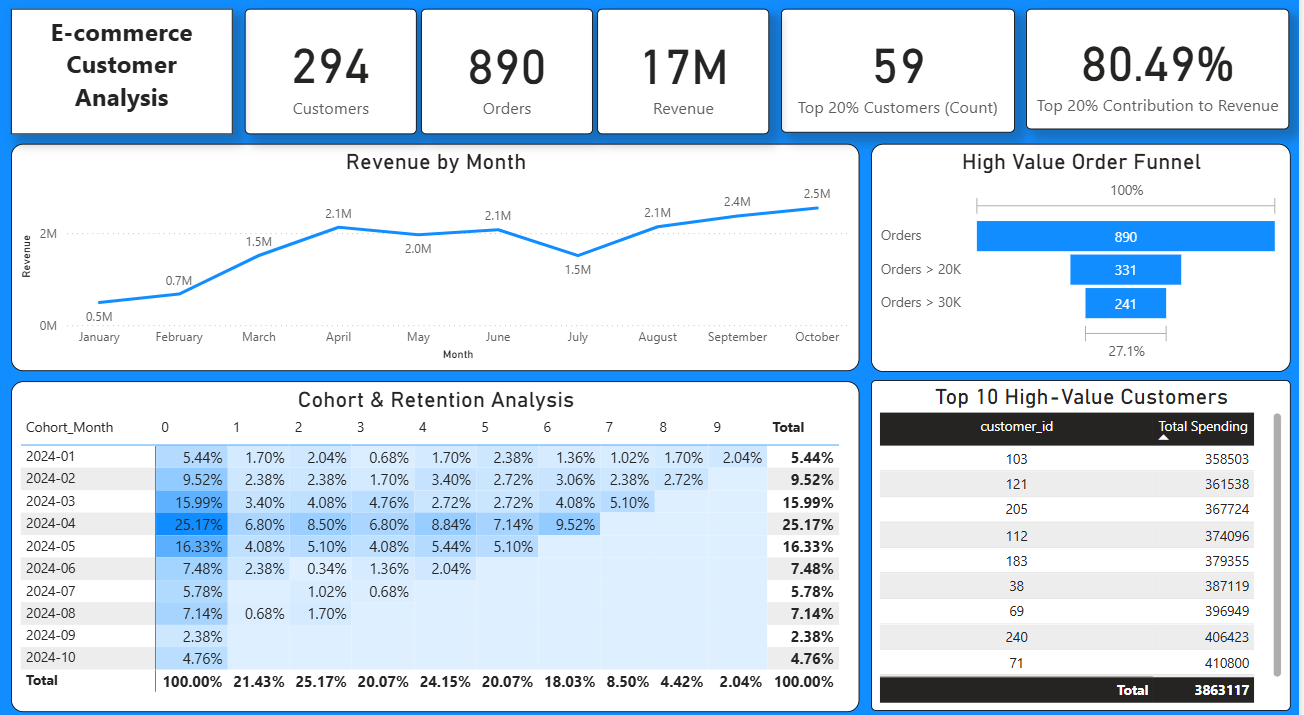

This screenshot's page, from the dashboard's own definition file:
{"tool":"powerbi","page":{"name":"Page 1","canvas":[1280,720],"ordinal":0},"visuals":[{"type":"lineChart","fields":{"Category":["orders_df.order_date.Variation.Date Hierarchy.Month"],"Y":["orders_df.Revenue"]},"box":[14.7,150.9,833.1,223.3],"z":0},{"type":"card","fields":{"Values":["Customer_Summary.High Value cust"]},"box":[770.6,18.4,229.4,121.5],"z":1000},{"type":"tableEx","title":"Top 10 High-Value Customers","fields":{"Values":["Customer_Summary.customer_id","Sum(Customer_Summary.total_spent)"]},"box":[858.3,383.1,411.8,324.7],"z":2000},{"type":"pivotTable","title":"Cohort & Retention Analysis","fields":{"Rows":["orders_df.Cohort_Month"],"Columns":["orders_df.Month_Number"],"Values":["orders_df.Retention %"]},"box":[14.7,384.1,833.1,325.2],"z":3000},{"type":"funnel","title":"High Value Order Funnel","fields":{"Y":["orders_df.Total_orders","orders_df.Orders > 20K","orders_df.Orders > 30K"]},"box":[858.9,150.9,411,225.8],"z":4000},{"type":"card","fields":{"Values":["orders_df.Customers"]},"box":[243.8,18.7,169,123],"z":5000},{"type":"card","fields":{"Values":["orders_df.Total_orders"]},"box":[417.3,18.7,169,123.2],"z":6000},{"type":"card","fields":{"Values":["orders_df.Revenue"]},"box":[590.7,18.7,169.2,123.2],"z":7000},{"type":"card","fields":{"Values":["Customer_Summary.Top 20% Contribution to Revenue"]},"box":[1011.3,18.7,258.7,118.2],"z":8000},{"type":"textbox","box":[14.9,18.7,217.7,123.2],"z":9000}]}

Visuals, with their boxes in screenshot pixels (x1, y1, x2, y2), scaled from the page's 1280x720 canvas onto the 1304x715 screenshot:
lineChart - orders_df.order_date.Variation.Date Hierarchy.Month x orders_df.Revenue: box(15, 150, 864, 372)
card - Customer_Summary.High Value cust: box(785, 18, 1019, 139)
"Top 10 High-Value Customers" tableEx: box(874, 380, 1294, 703)
"Cohort & Retention Analysis" pivotTable: box(15, 381, 864, 704)
"High Value Order Funnel" funnel: box(875, 150, 1294, 374)
card - orders_df.Customers: box(248, 19, 421, 141)
card - orders_df.Total_orders: box(425, 19, 597, 141)
card - orders_df.Revenue: box(602, 19, 774, 141)
card - Customer_Summary.Top 20% Contribution to Revenue: box(1030, 19, 1294, 136)
textbox: box(15, 19, 237, 141)
